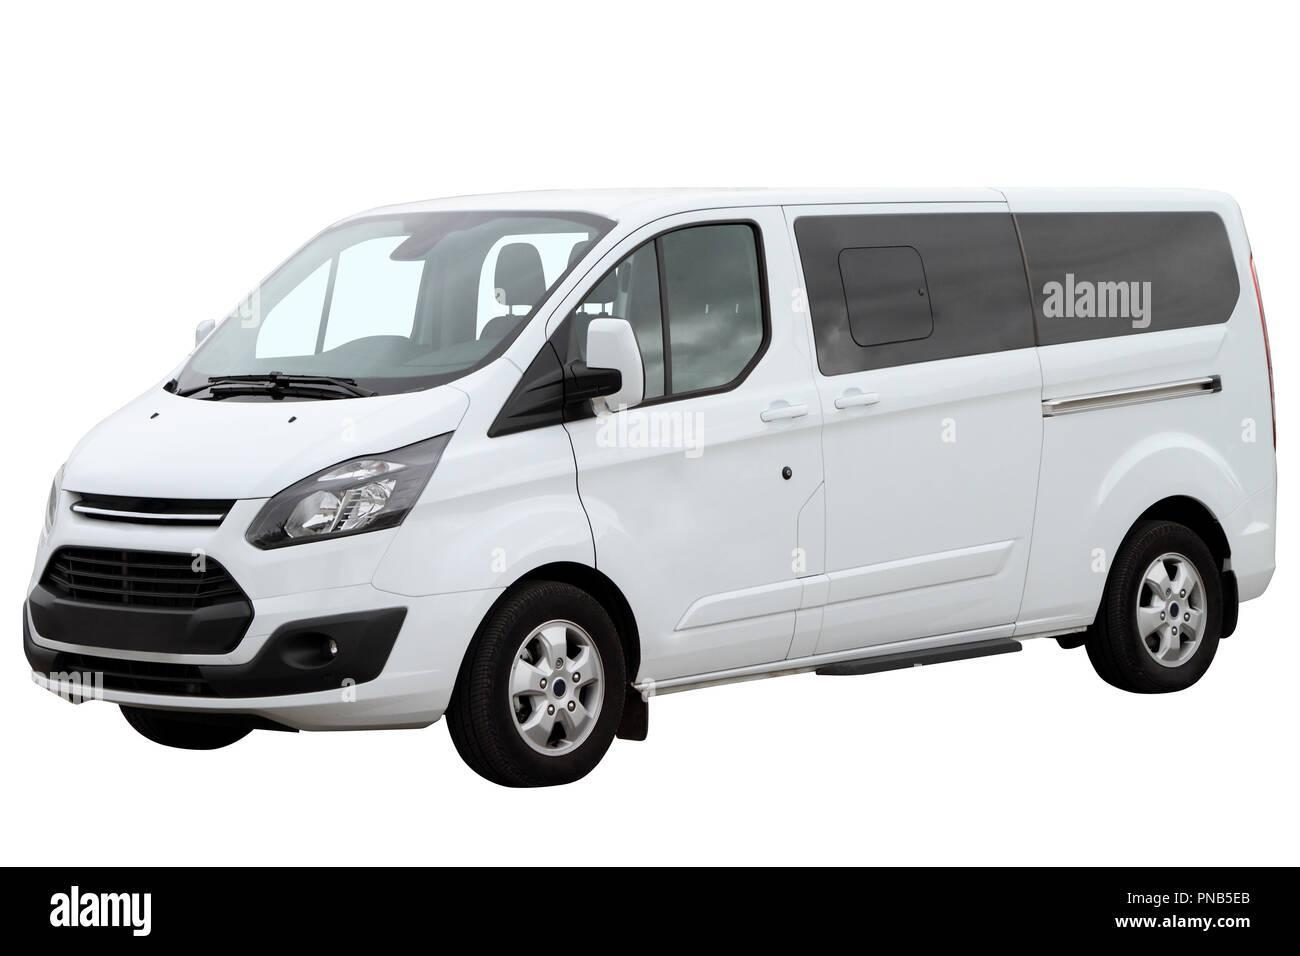Minivan: (24, 191, 1278, 786)
